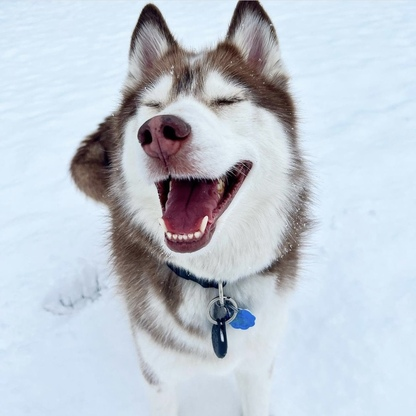husky: (66, 1, 319, 416)
